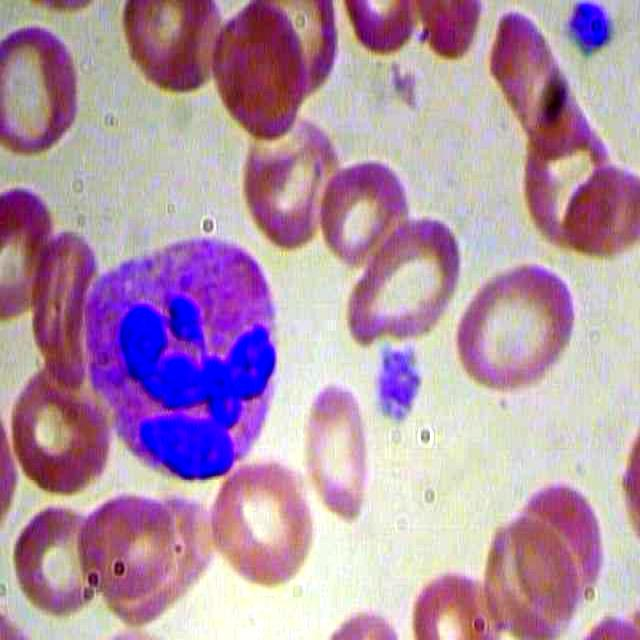Platelets: (369, 347, 431, 433), (564, 1, 615, 59)
RBC: (337, 209, 464, 347), (454, 263, 581, 400), (339, 212, 466, 349), (234, 112, 361, 249), (210, 448, 316, 592), (211, 1, 317, 144), (490, 13, 590, 155), (9, 495, 112, 625), (11, 363, 114, 493), (1, 19, 90, 162), (78, 491, 183, 598), (303, 378, 374, 518), (323, 160, 407, 268), (1, 184, 63, 319), (556, 168, 640, 263)
WBC: (70, 220, 287, 491)
